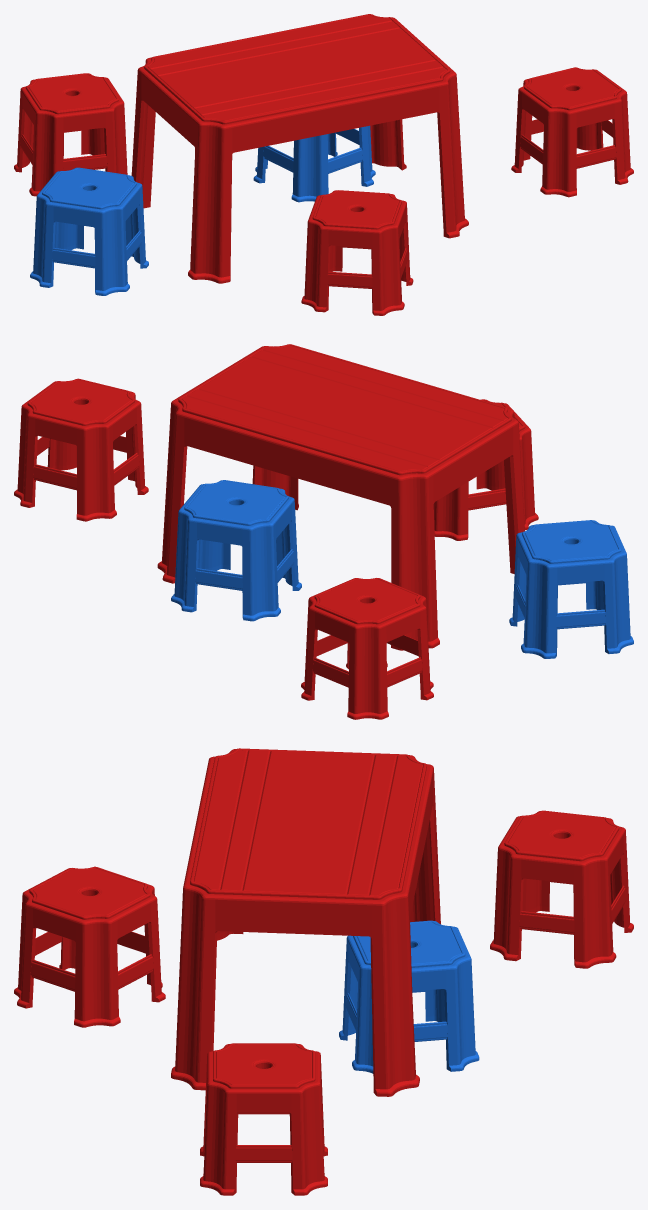
File: SM_PlasticTableChairs_VN.obj
3 views of the same model, one above another, from view 1: azimuth 30°, elevation 25°; view 2: azimuth 150°, elevation 25°; view 3: azimuth 270°, elevation 25° (orthographic). The views are drawn at different scales.
Parts seen in each view (by area): view 1: Table, Chairs; view 2: Table, Chairs; view 3: Table, Chairs.
Part boxes in pixels (x1,y1,x2,y2): Table: (14, 14, 633, 315); Chairs: (30, 125, 375, 295); Table: (14, 344, 538, 719); Chairs: (171, 480, 633, 658); Table: (14, 748, 633, 1195); Chairs: (339, 920, 479, 1073).
Size of the model in its own units: 1.42 by 0.3711 by 1.09.
